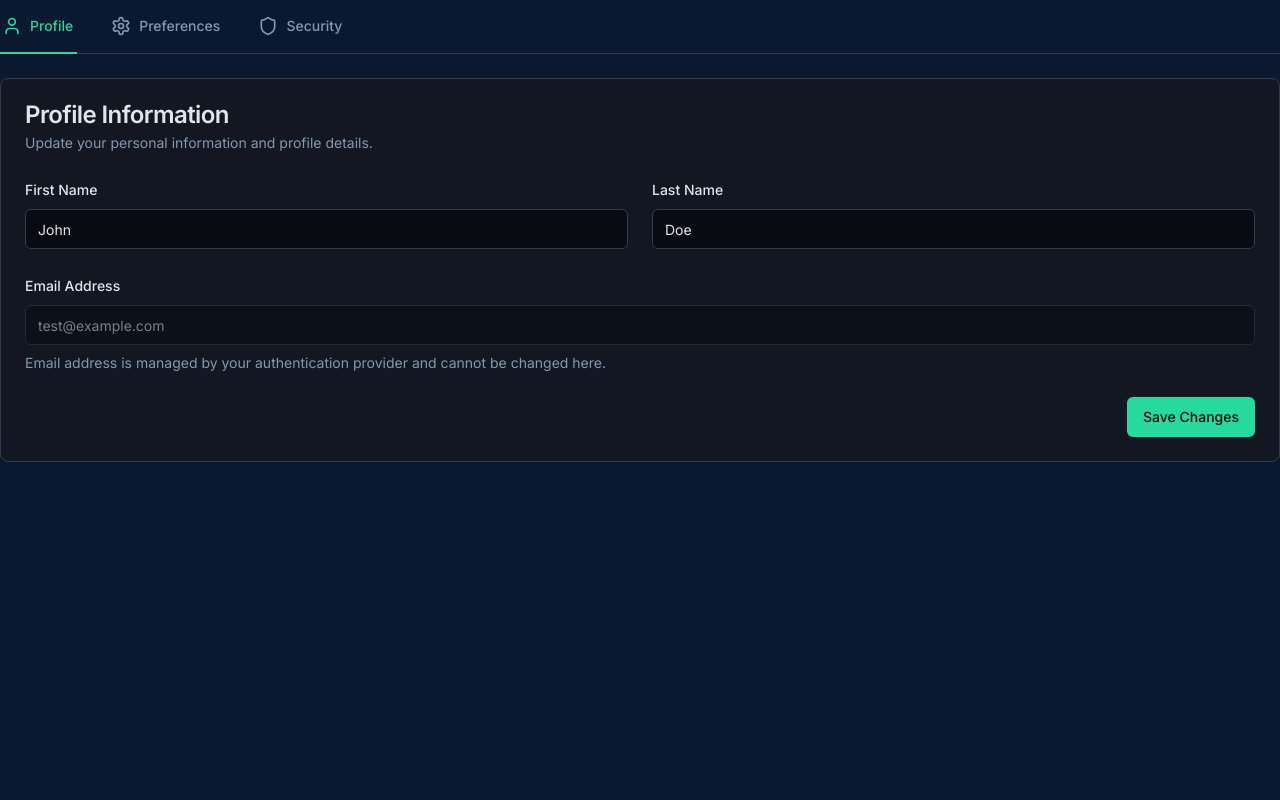
Test: UserProfile › Preferences Form › toggles notification preferences
Click the tab "Preferences". click: (167, 27)
box: [109,0,224,54]
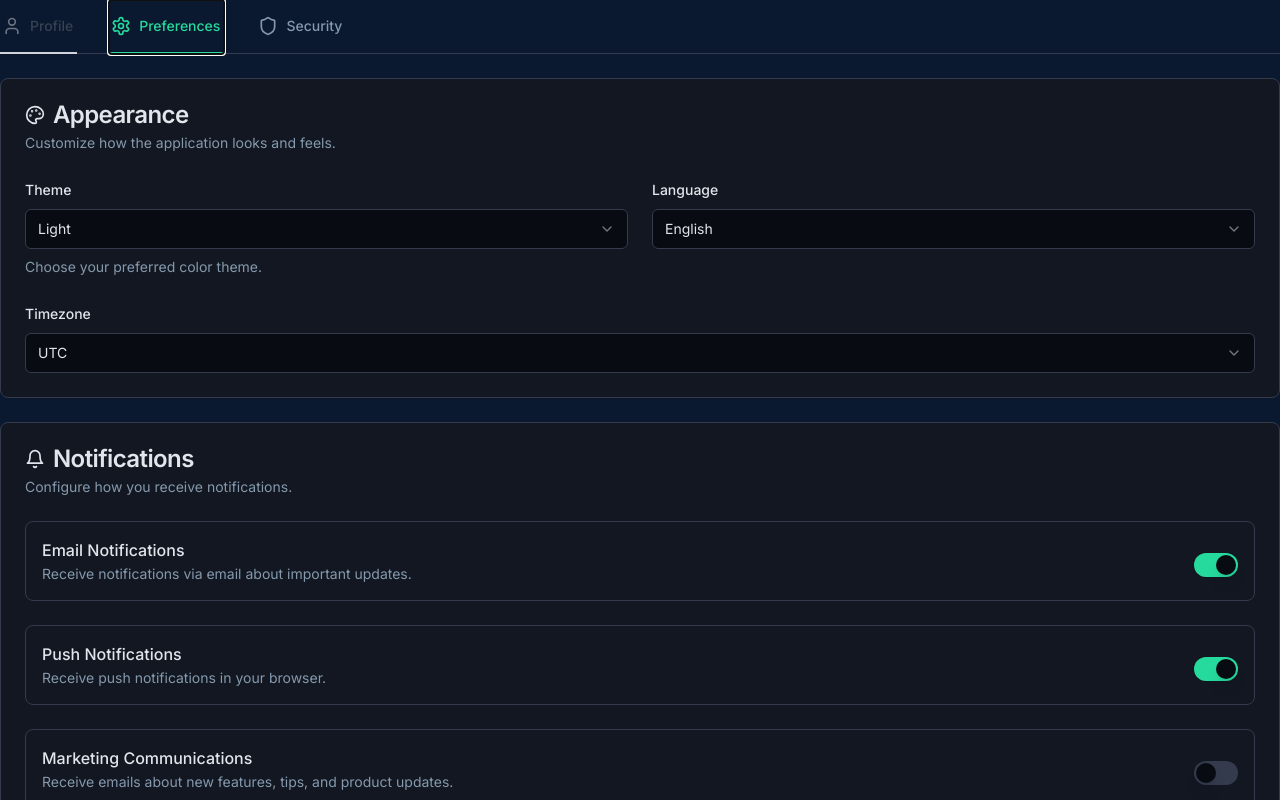
Check: the switch named "email notifications" in the row of "Email Notifications" is checked
Click the switch named "email notifications" in the row of "Email Notifications". click: (1216, 565)
box: [1194,553,1238,577]
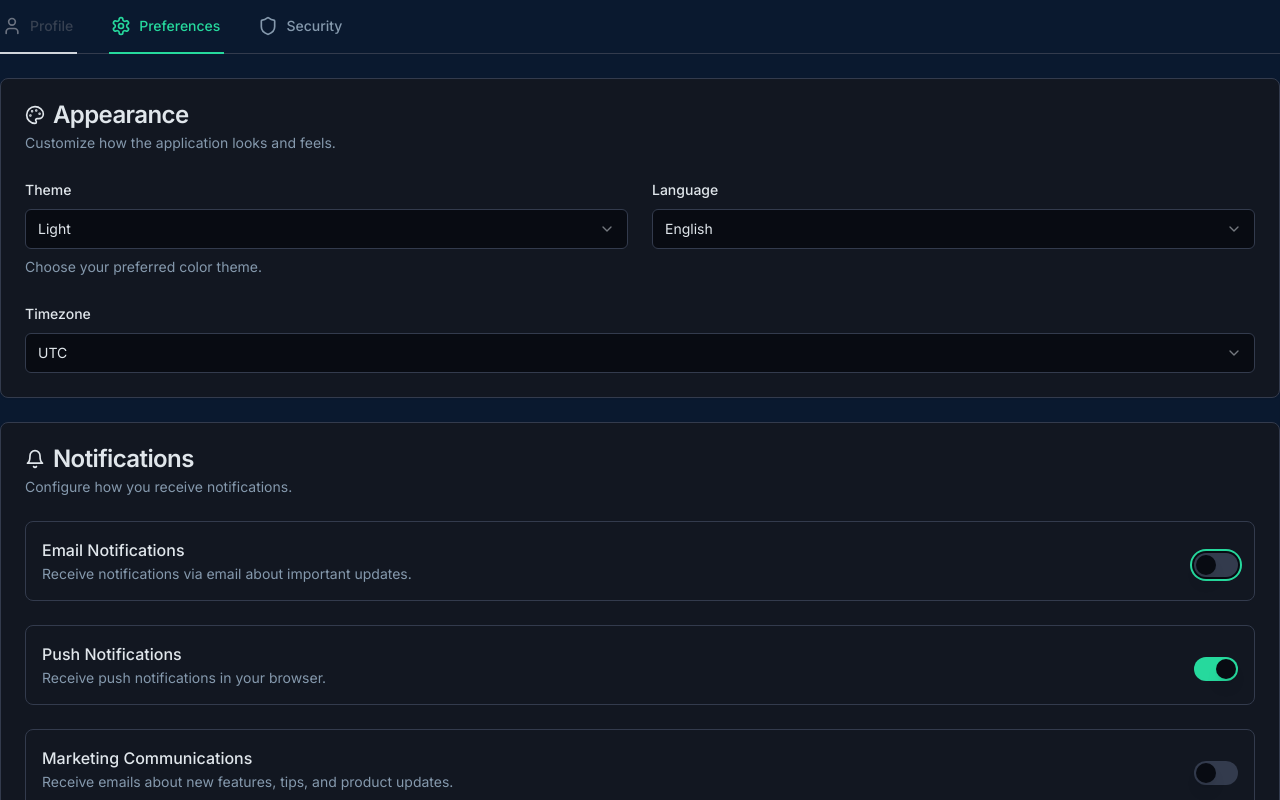
Check: the switch named "email notifications" in the row of "Email Notifications" is not checked, box [1194,553,1238,577]
